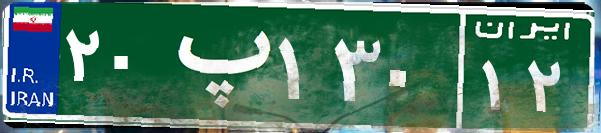0: (385, 28, 445, 110), (110, 28, 158, 105)
1: (273, 28, 330, 110), (475, 38, 525, 113)
2: (57, 26, 110, 107), (525, 38, 570, 115)
3: (330, 28, 385, 110)
پ: (158, 15, 273, 115)
